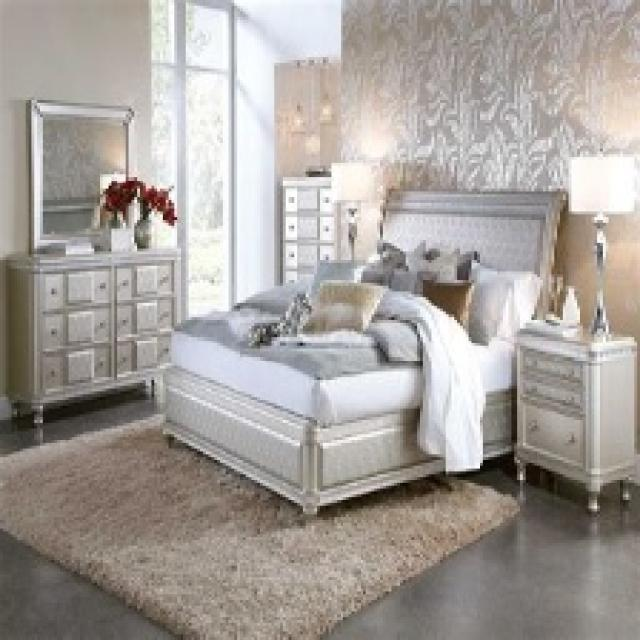Bed: (157, 186, 566, 514)
